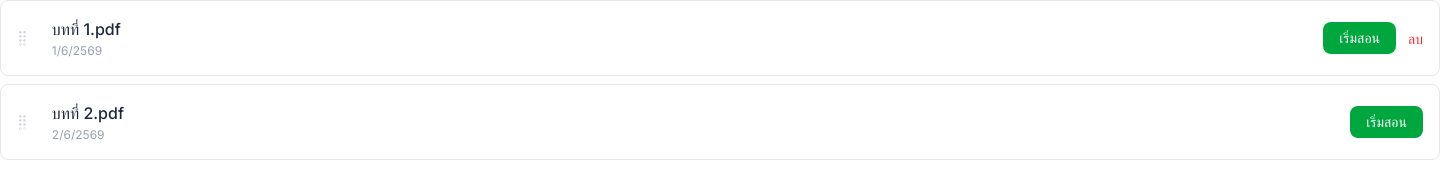
Test: FileList › cancels edit on Escape key
The width and height of the screenshot is (1440, 179).
Click the text "บทที่ 1.pdf".
click(86, 29)  # box [52,19,121,39]
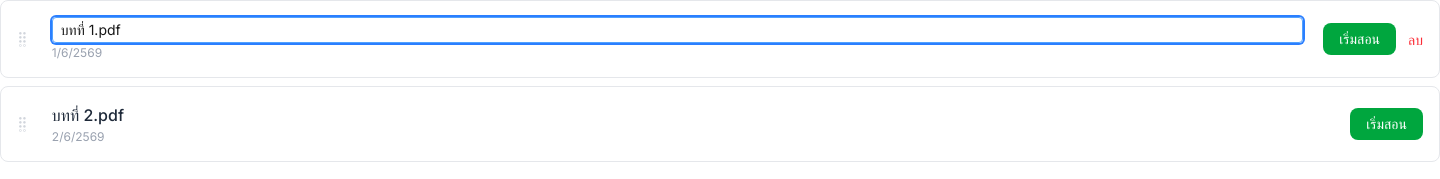
Replace the text in the field showing "บทที่ 1.pdf" with "แก้ไขใหม่.pdf" at (678, 30), box [52,17,1303,43]
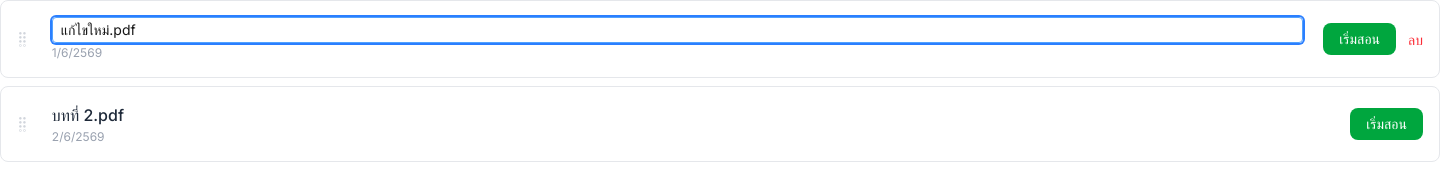
Press Escape in the field showing "บทที่ 1.pdf", box [52,17,1303,43]
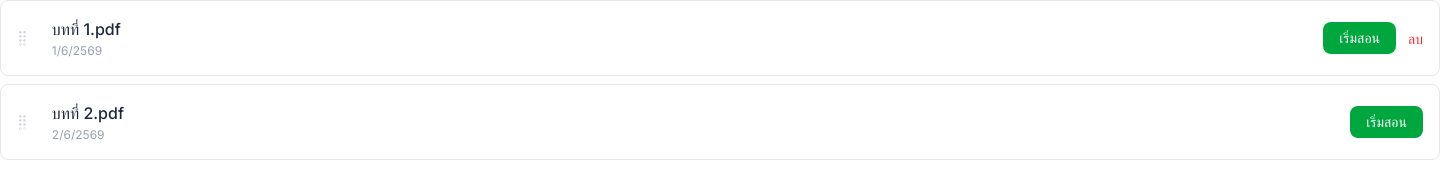
Expected: the field showing "แก้ไขใหม่.pdf" is not shown
Expected: the text "บทที่ 1.pdf" is shown, [52,19,121,39]
